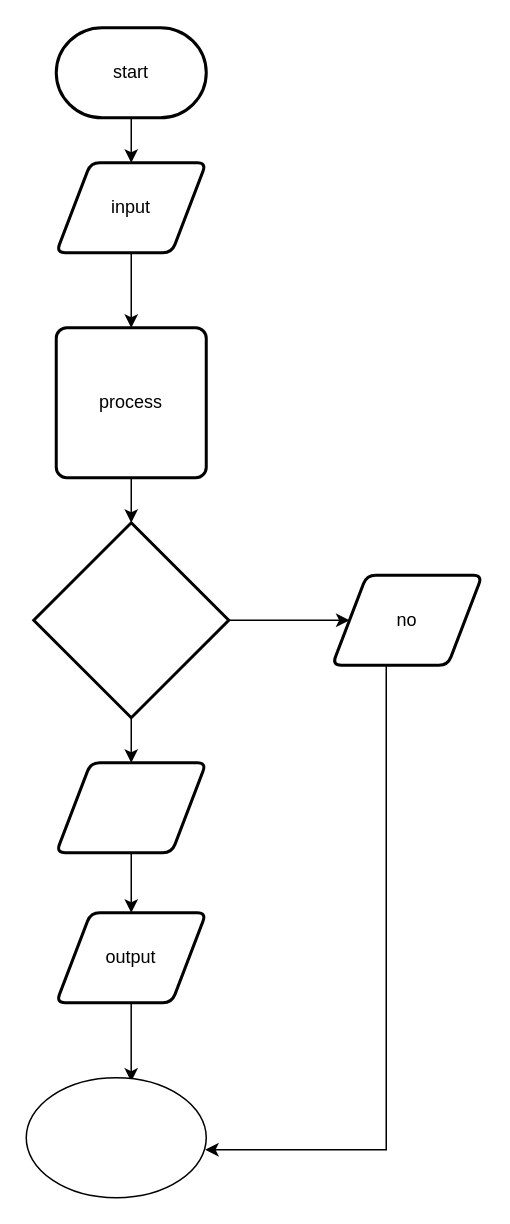
Some shapes in this 510 by 1224 pixel diagram are drawn without their labels. The shapes that lost their labels are listed below. From the top down, each one's box as (x1, y1, x2, y2) in pixels, then its label:
(32, 520, 230, 718): if ...
(54, 760, 207, 854): yes
(25, 1076, 206, 1198): stop
